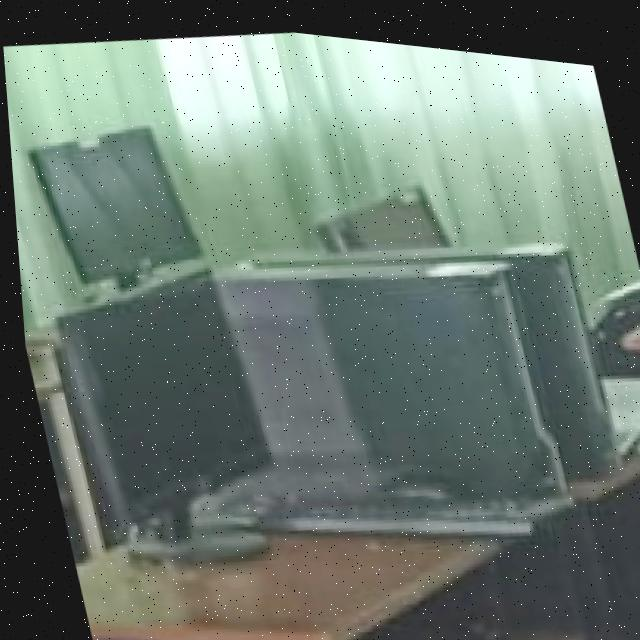offscreen: (62, 261, 264, 519), (32, 123, 197, 273)
